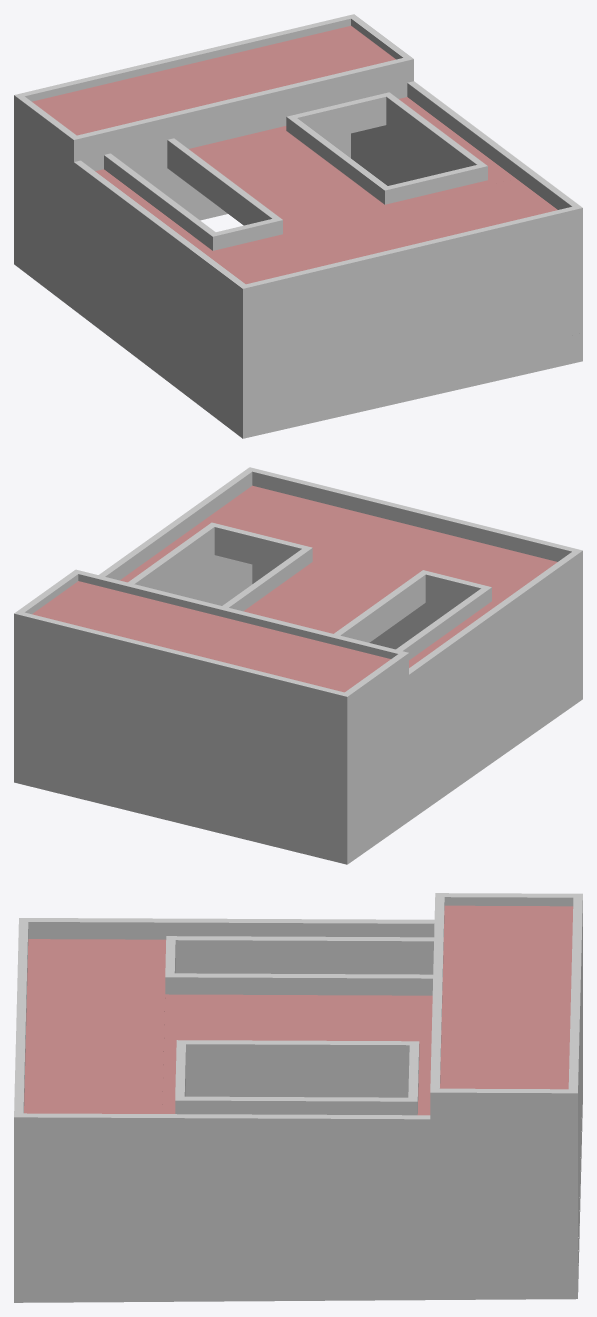
The model's file is LOD_Block_2_81.glb.
The picture shows the model from 3 angles, top to bottom: view 1: azimuth 30°, elevation 25°; view 2: azimuth 150°, elevation 25°; view 3: azimuth 270°, elevation 25°; orthographic projection. The views are drawn at different scales.
Visible parts, largest first — view 1: mesh_CityEngineMaterial_1192; view 2: mesh_CityEngineMaterial_1192; view 3: mesh_CityEngineMaterial_1192.
Part boxes in pixels (x1=…): mesh_CityEngineMaterial_1192: x1=14, y1=14, x2=582, y2=438; mesh_CityEngineMaterial_1192: x1=14, y1=467, x2=582, y2=864; mesh_CityEngineMaterial_1192: x1=14, y1=893, x2=582, y2=1302.
Bounding box in the file's own units: 25.32 × 12.4 × 30.13.
